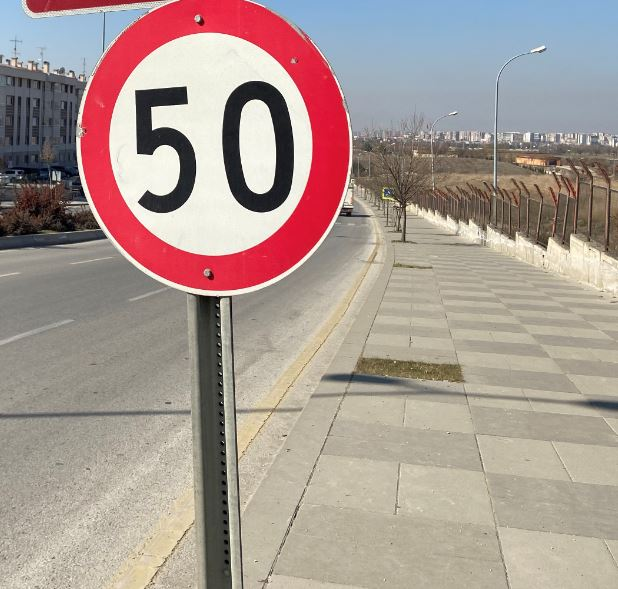50 Km Hiz Siniri: (69, 3, 353, 295)
